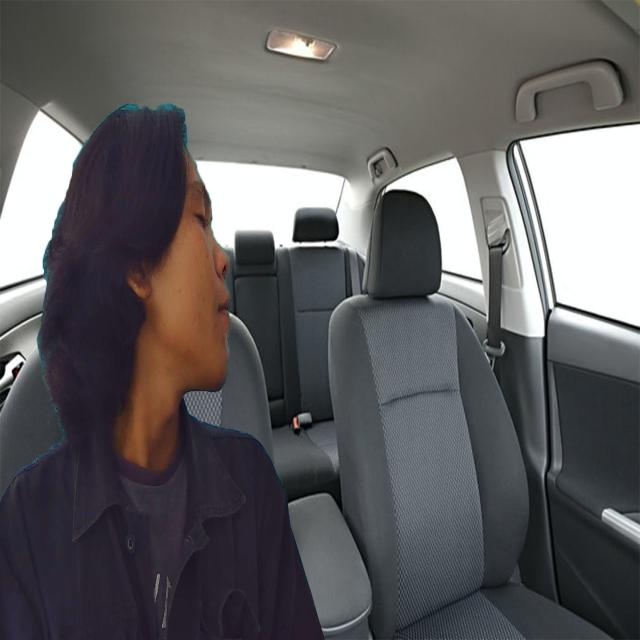no-seatbelt: (129, 98, 254, 400)
